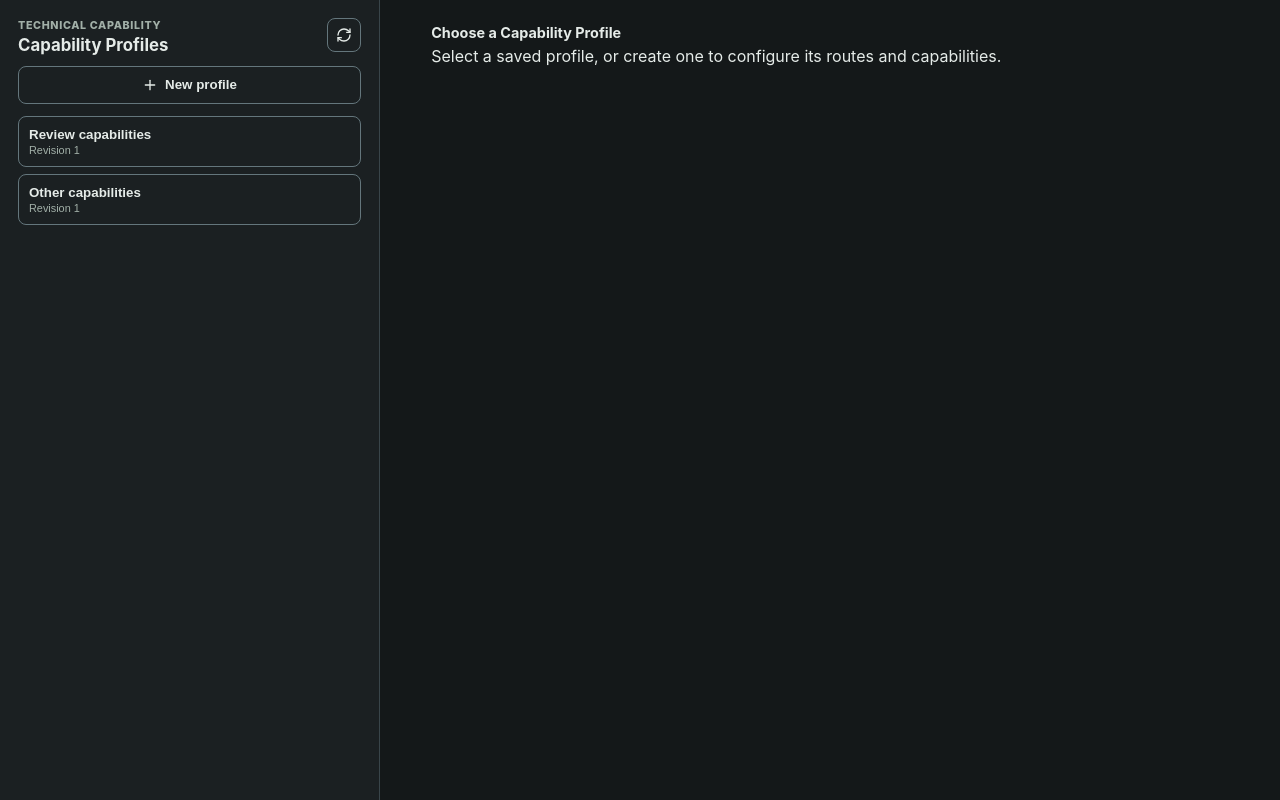
it: preserves typing during a save, even after selecting another profile
This screenshot has width=1280, height=800.
Click the button "Review capabilities Revision 1".
click(90, 134)  # box left=18, top=116, right=361, bottom=167
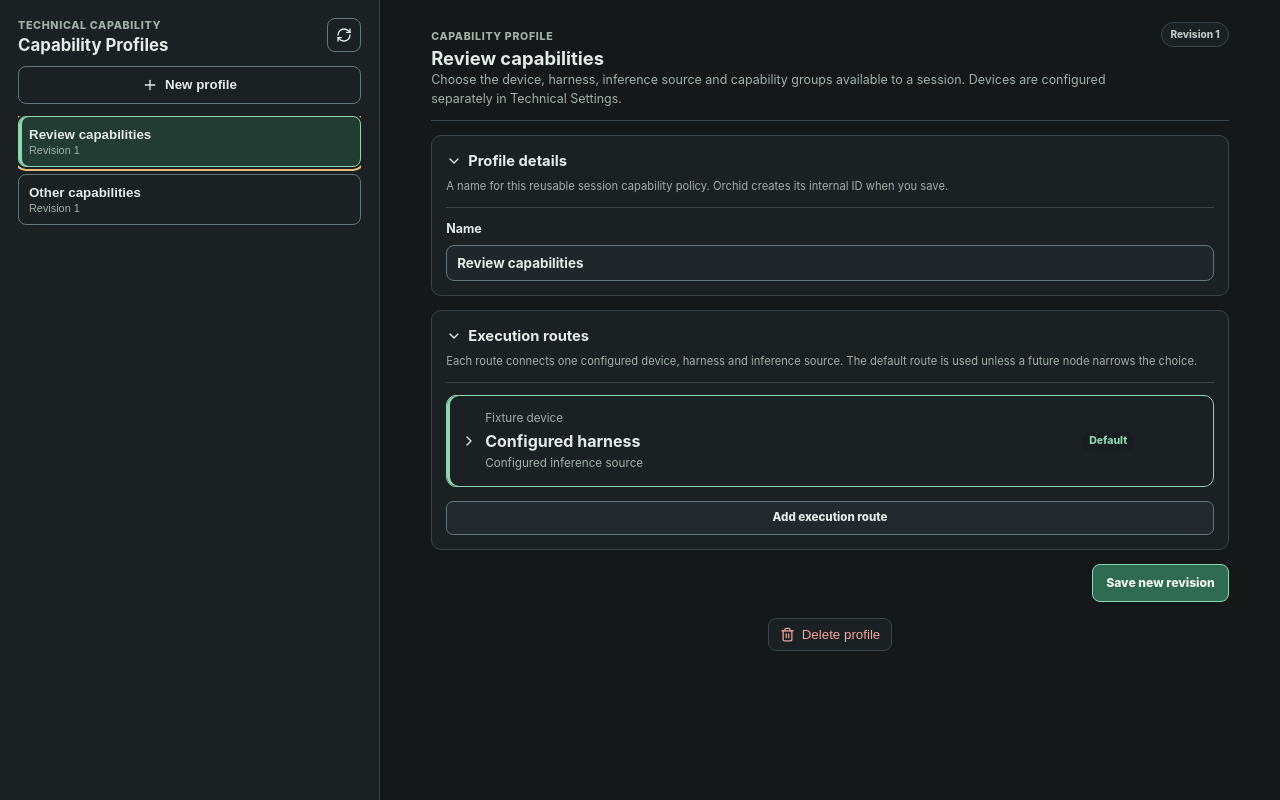
Replace the text in the field named "Capability profile name" with "Submitted" at (830, 263), box left=446, top=245, right=1214, bottom=281
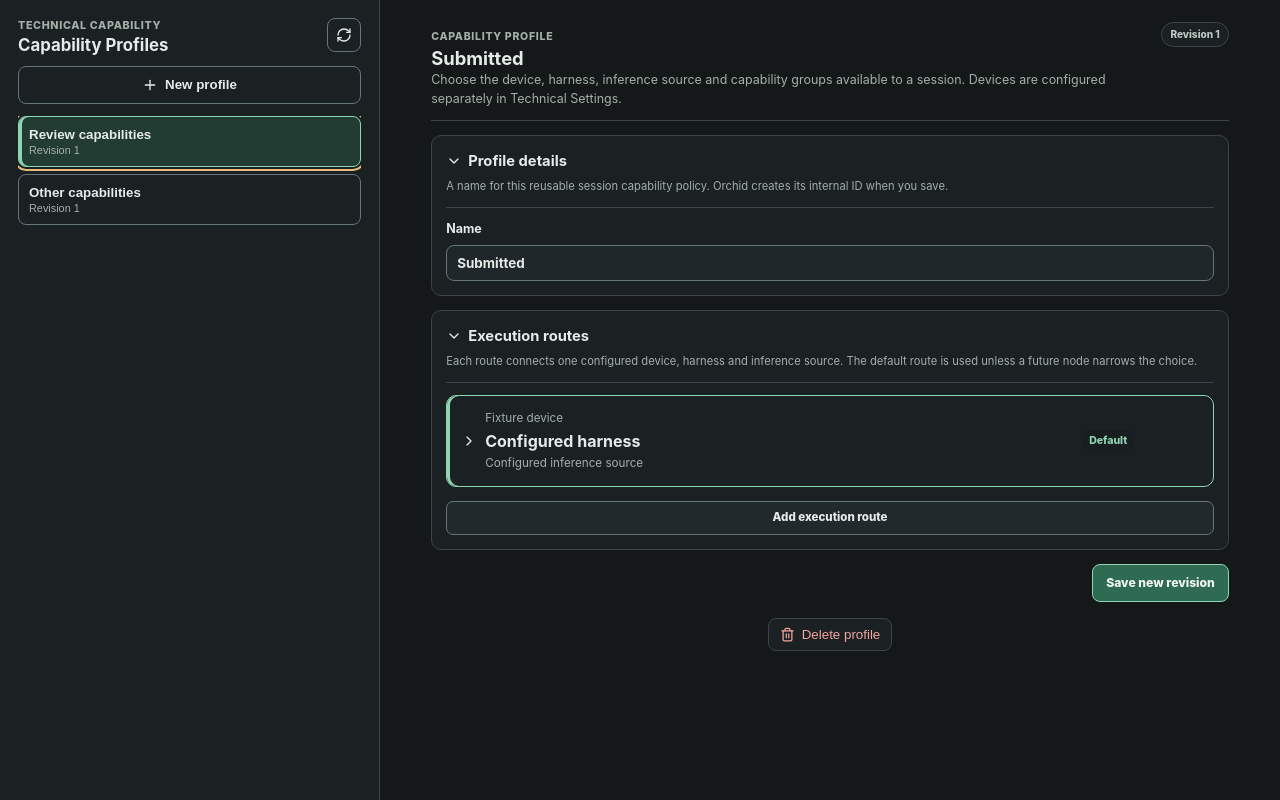
Click the button "Save new revision".
click(1161, 583)  # box left=1092, top=564, right=1229, bottom=602
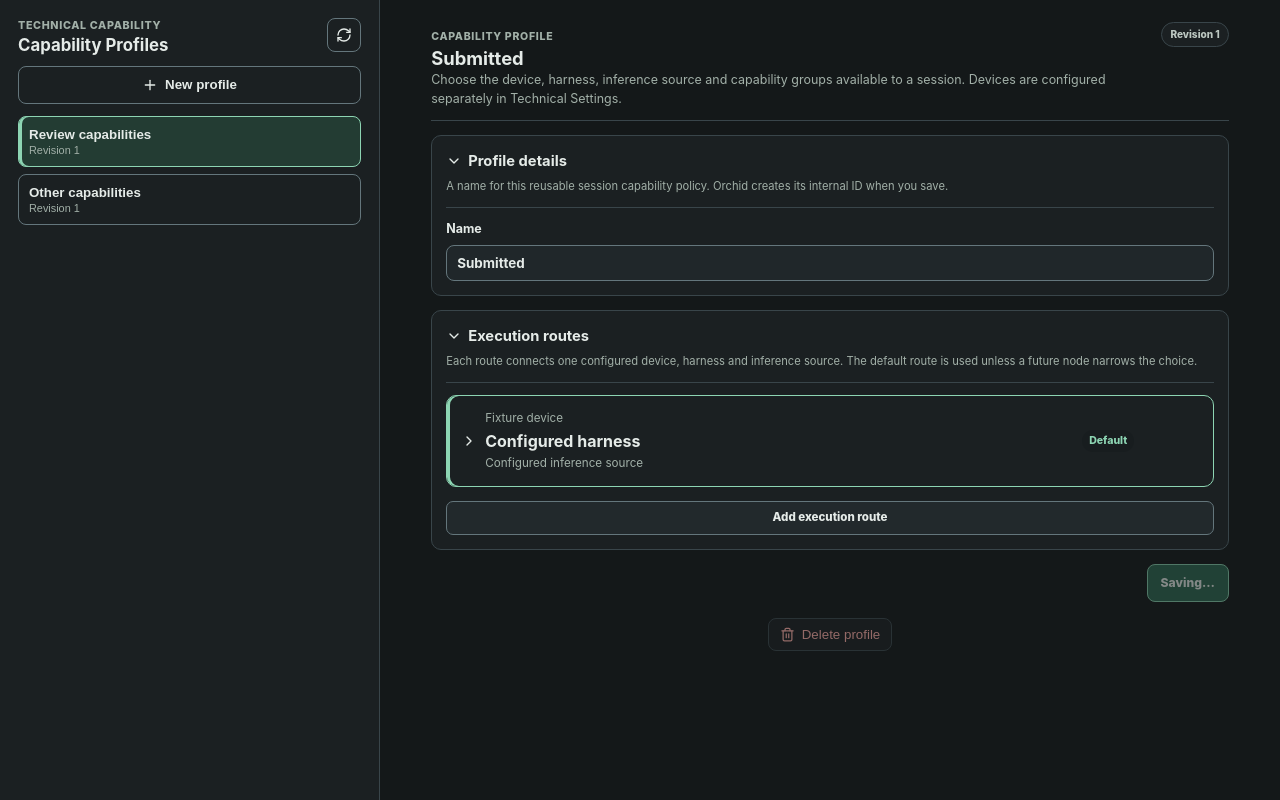
Replace the text in the field named "Capability profile name" with "Later typing" at (830, 263), box left=446, top=245, right=1214, bottom=281
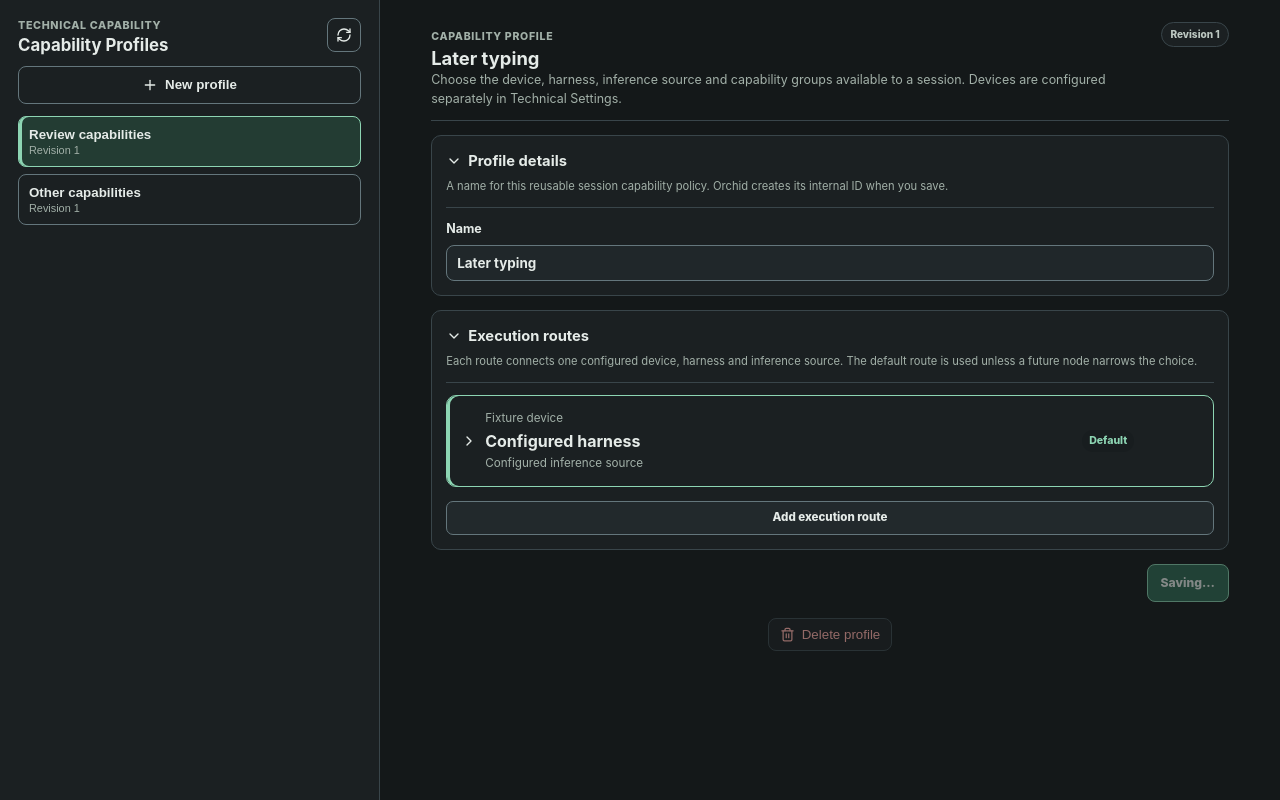
Click the button "Other capabilities Revision 1".
click(85, 192)  # box left=18, top=174, right=361, bottom=225
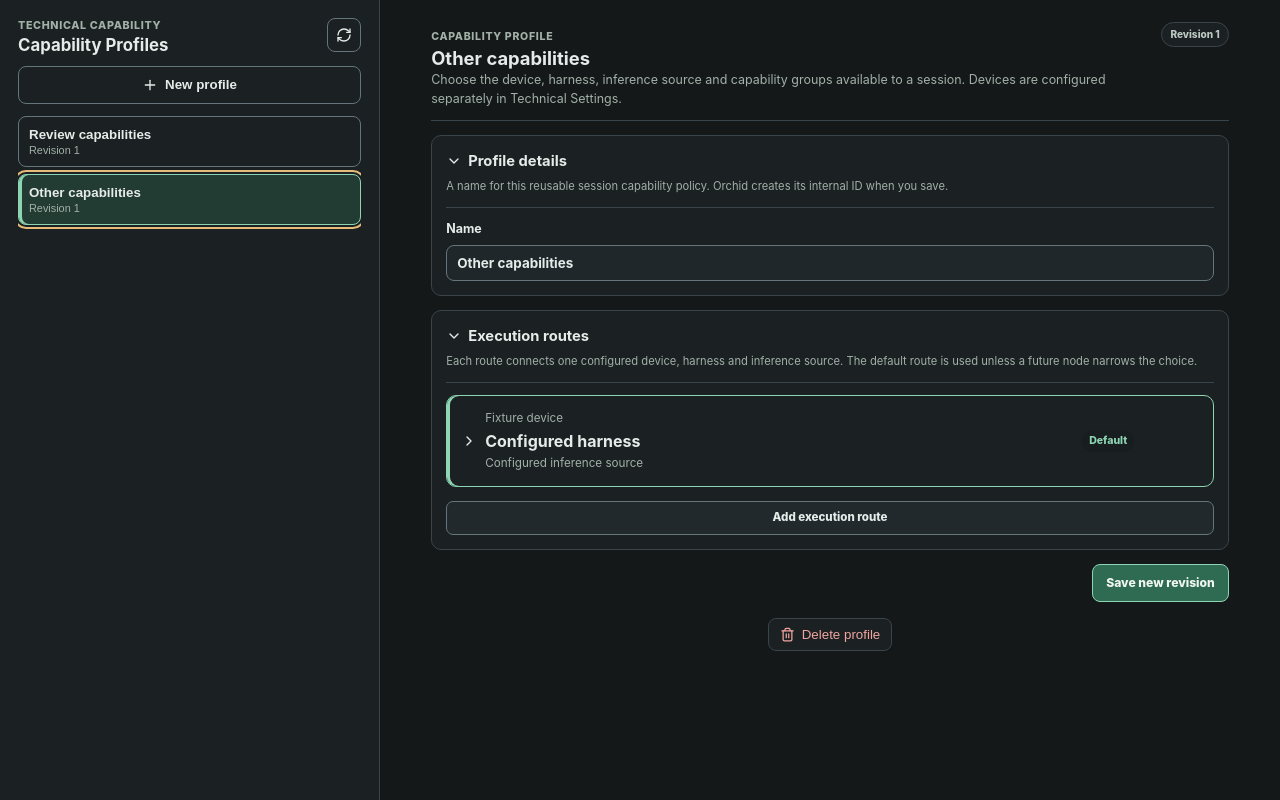
Result: the field named "Capability profile name" holds "Other capabilities" at left=446, top=245, right=1214, bottom=281
Click the button "Review capabilities Revision 1".
click(90, 134)  # box left=18, top=116, right=361, bottom=167
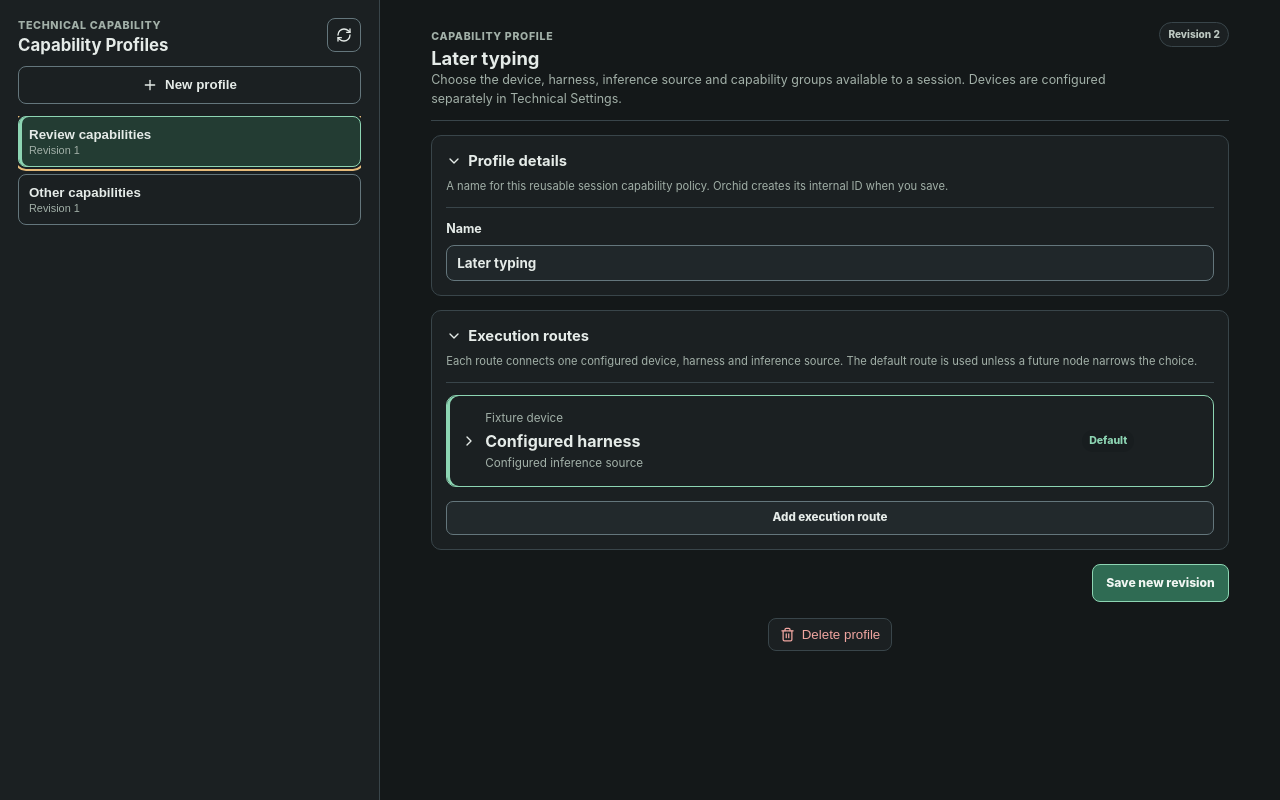
Result: the text "Revision 2" is shown at left=1159, top=22, right=1229, bottom=47
